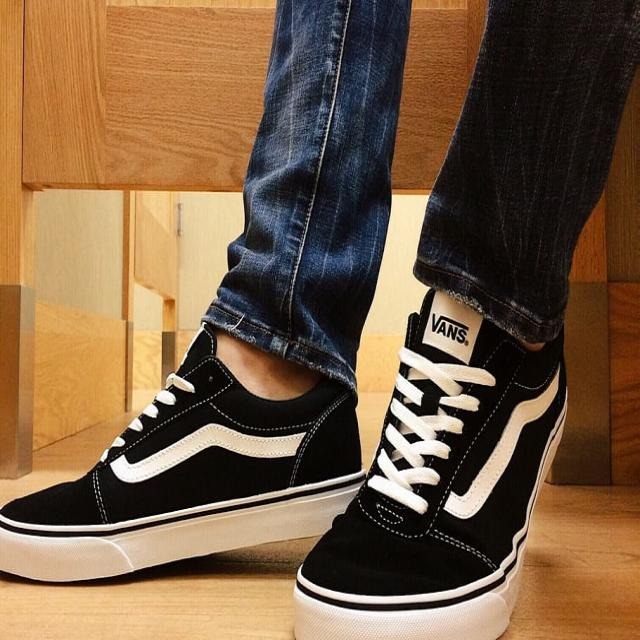shoe: (289, 283, 583, 640), (0, 313, 364, 583)
